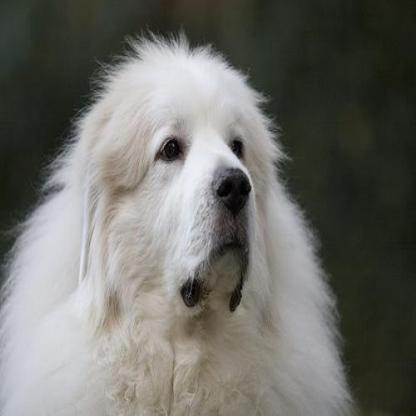Great_Pyrenees: (0, 25, 356, 413)
